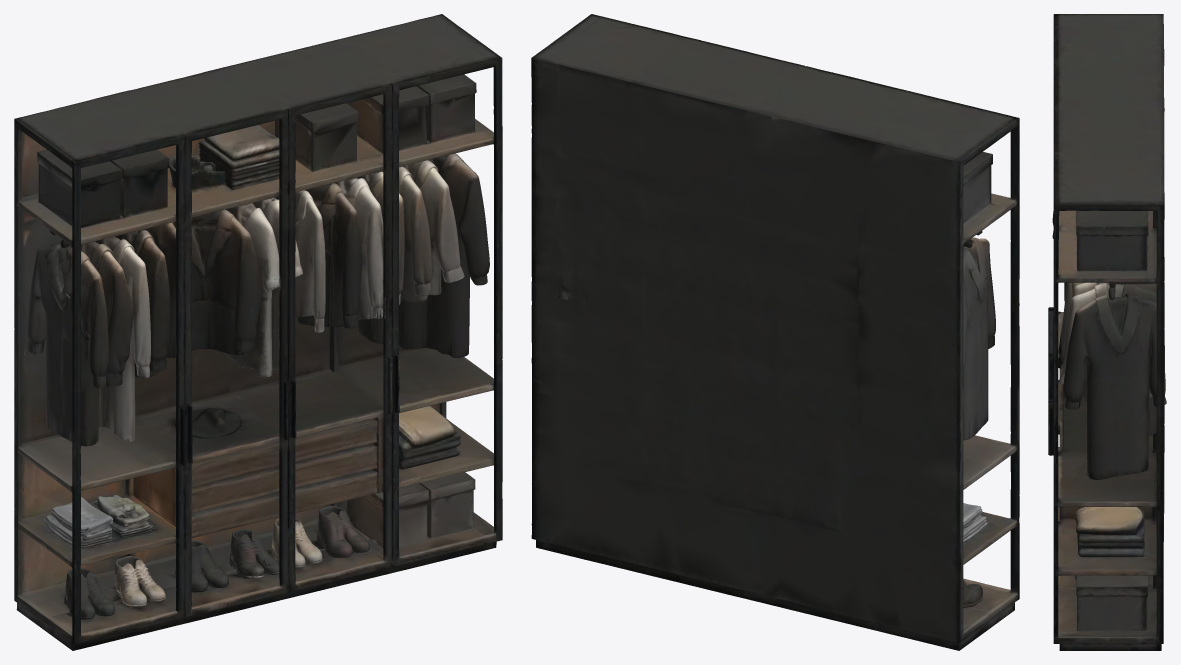
File: dressing.glb
The picture shows the model from 3 angles, left to right: view 1: azimuth 30°, elevation 25°; view 2: azimuth 150°, elevation 25°; view 3: azimuth 270°, elevation 25°; orthographic projection. The views are drawn at different scales.
Visible parts, largest first — view 1: tripo_node_93cfd477-365c-4e9c-844e-27e828caffd7; view 2: tripo_node_93cfd477-365c-4e9c-844e-27e828caffd7; view 3: tripo_node_93cfd477-365c-4e9c-844e-27e828caffd7.
Boxes of the visible parts, x1,y1,x2,y2 form: tripo_node_93cfd477-365c-4e9c-844e-27e828caffd7: (14,14,502,650); tripo_node_93cfd477-365c-4e9c-844e-27e828caffd7: (531,14,1019,650); tripo_node_93cfd477-365c-4e9c-844e-27e828caffd7: (1048,14,1166,650).
Size of the model in its own units: 0.8929 by 0.9792 by 0.2345.
1 material, 1 textured.
